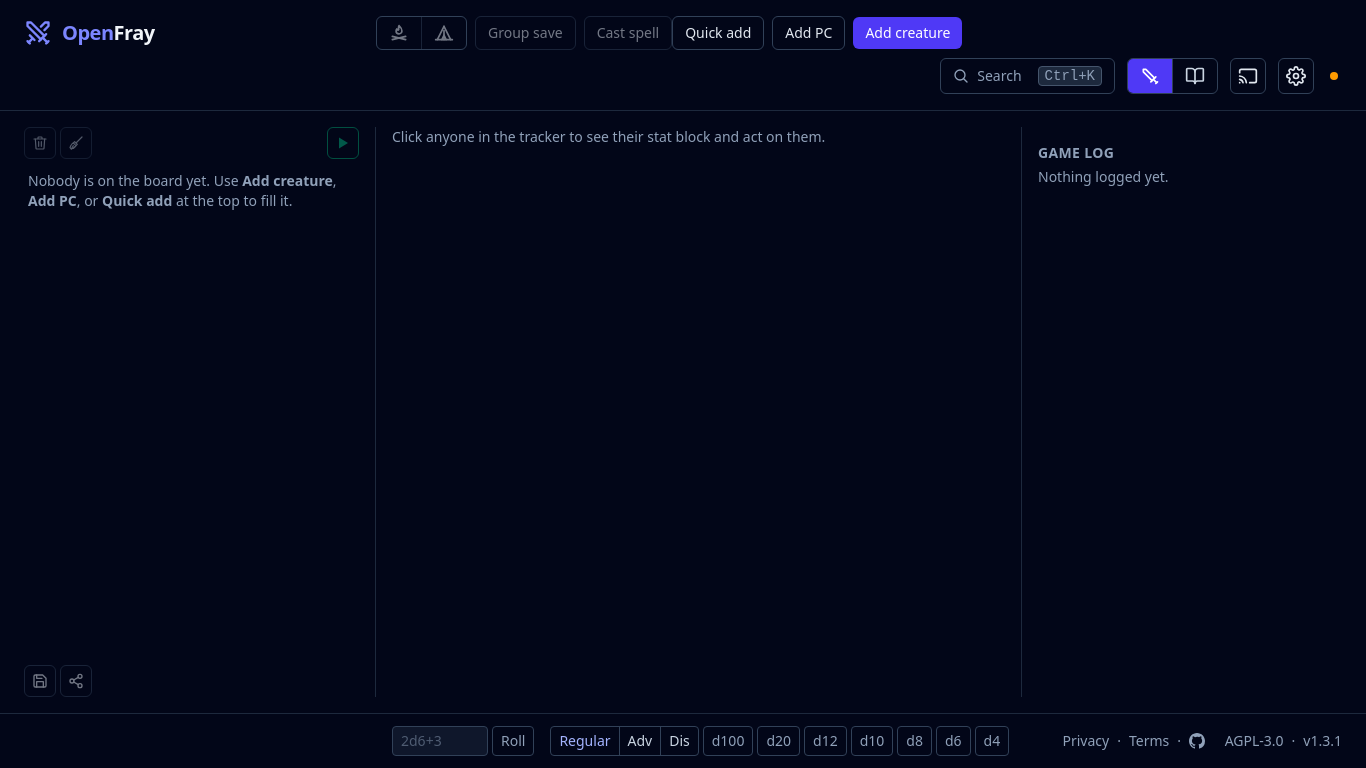
Test case: App — keyboard control › advances the turn on n once the fight is running
Click the button "Quick add".
click(718, 33)  # box [672,16,764,50]
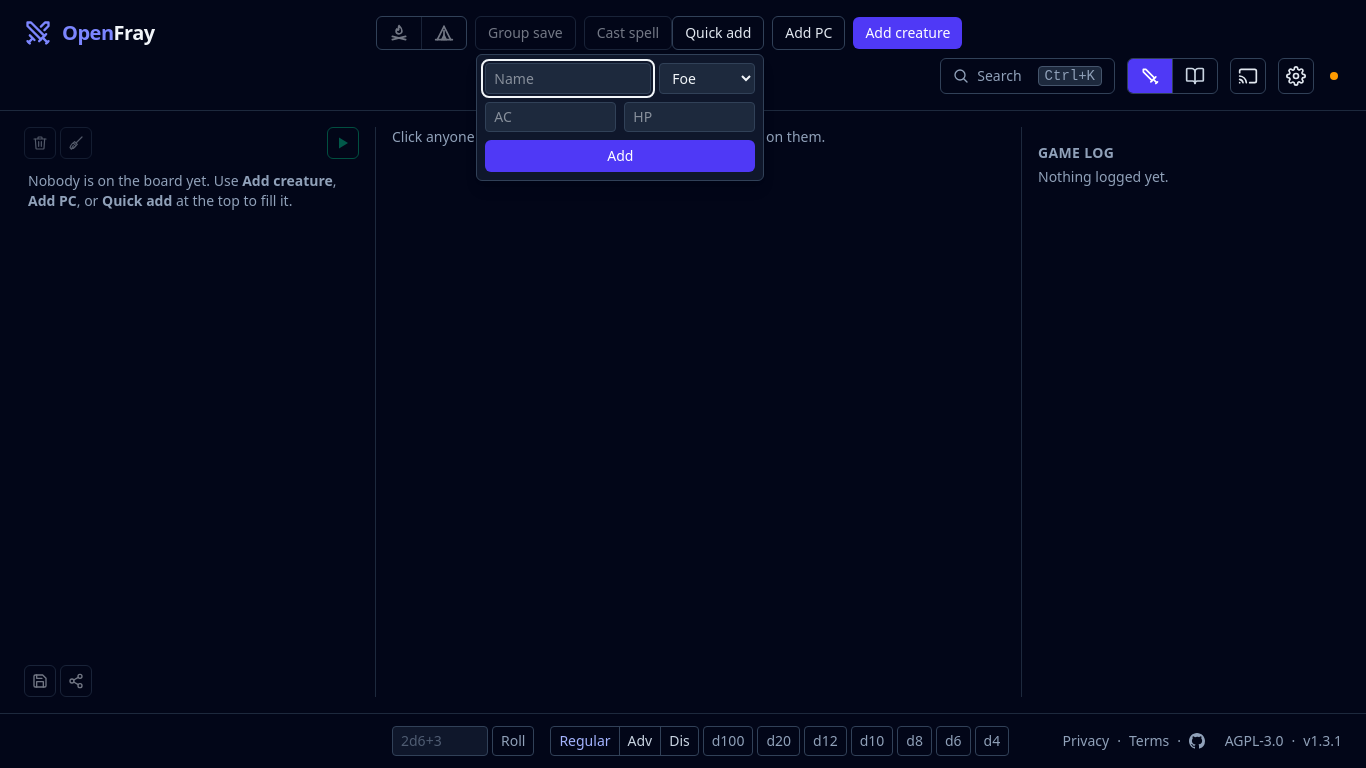
Type "Bandit" into the field named "Quick add name".
click(568, 78); type("Bandit")  # box [485,63,651,94]
Type "10" into the field named "Max HP".
click(690, 117); type("10")  # box [624,102,755,132]
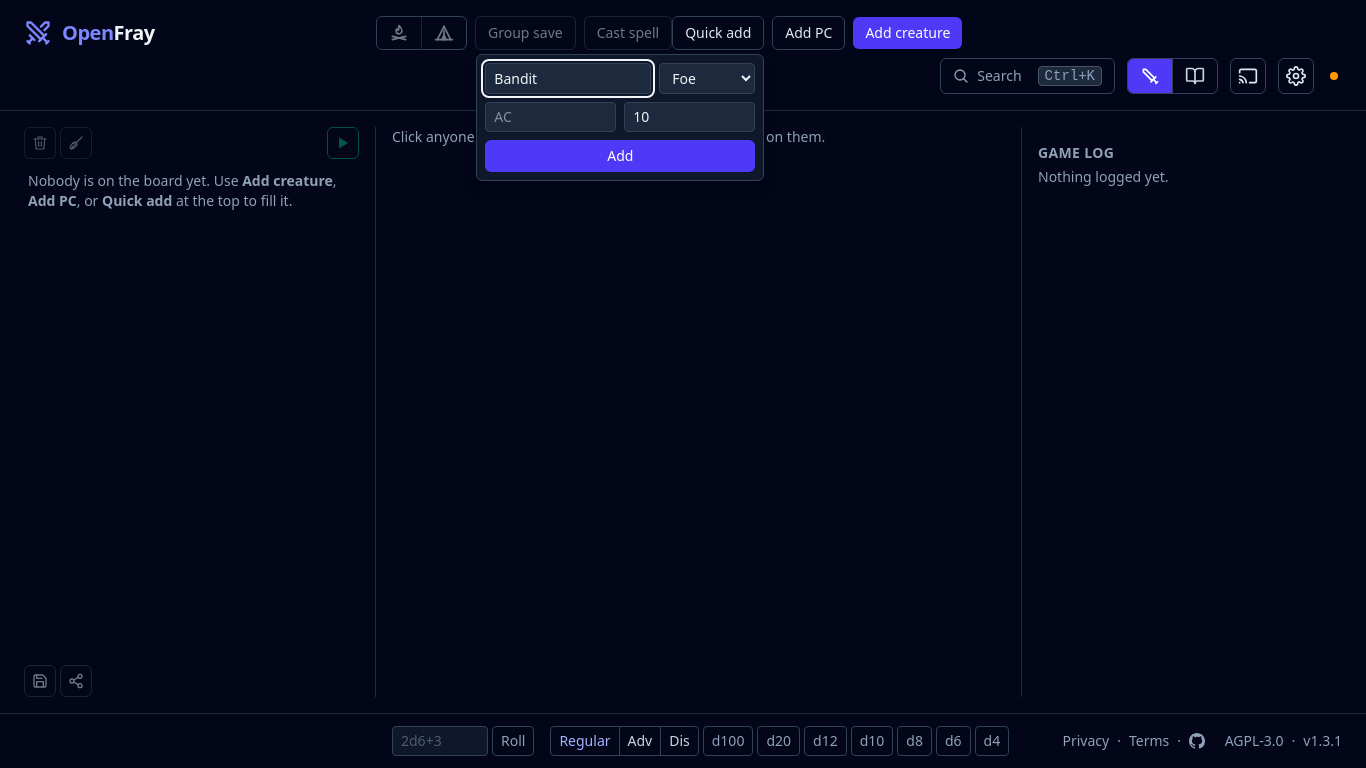
Click the button "Add".
click(620, 156)  # box [485,140,755,172]
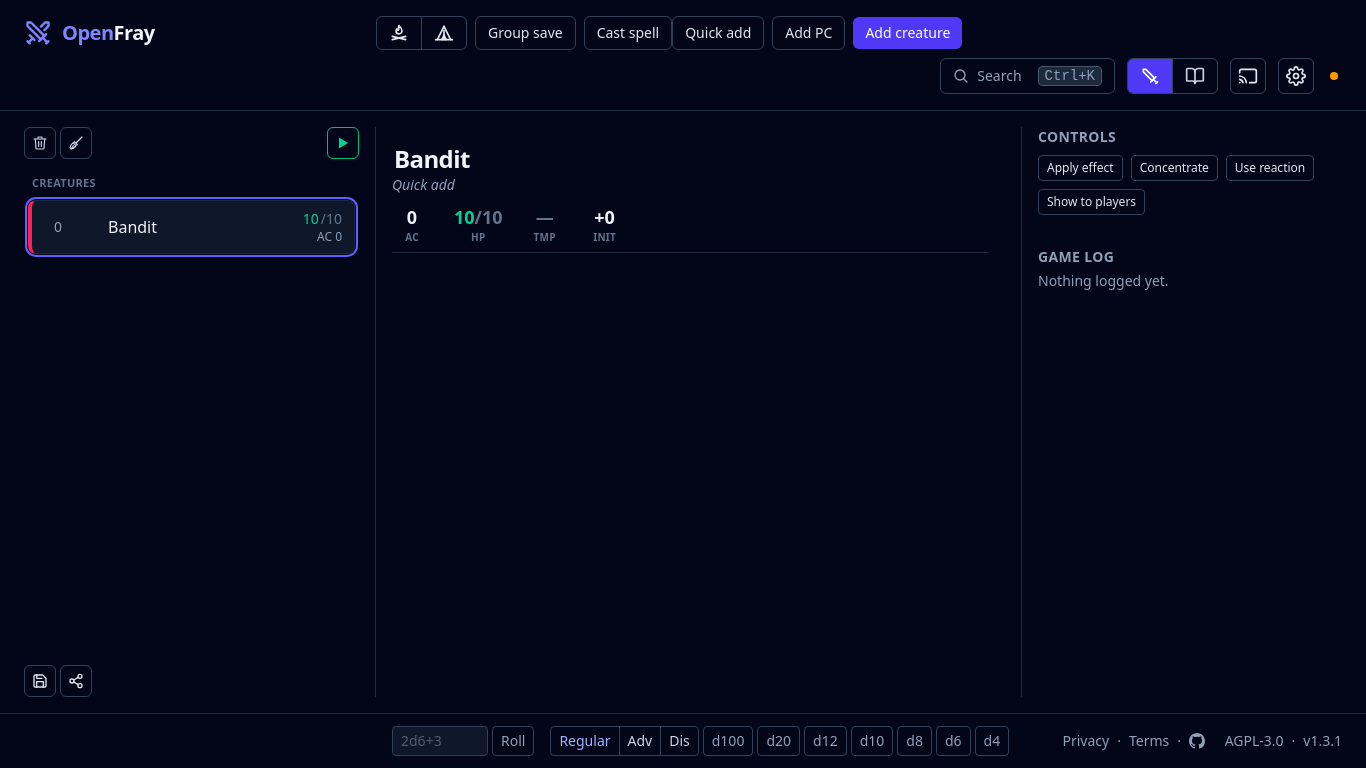
Click the button named "Begin".
click(343, 143)  # box [327,127,359,159]
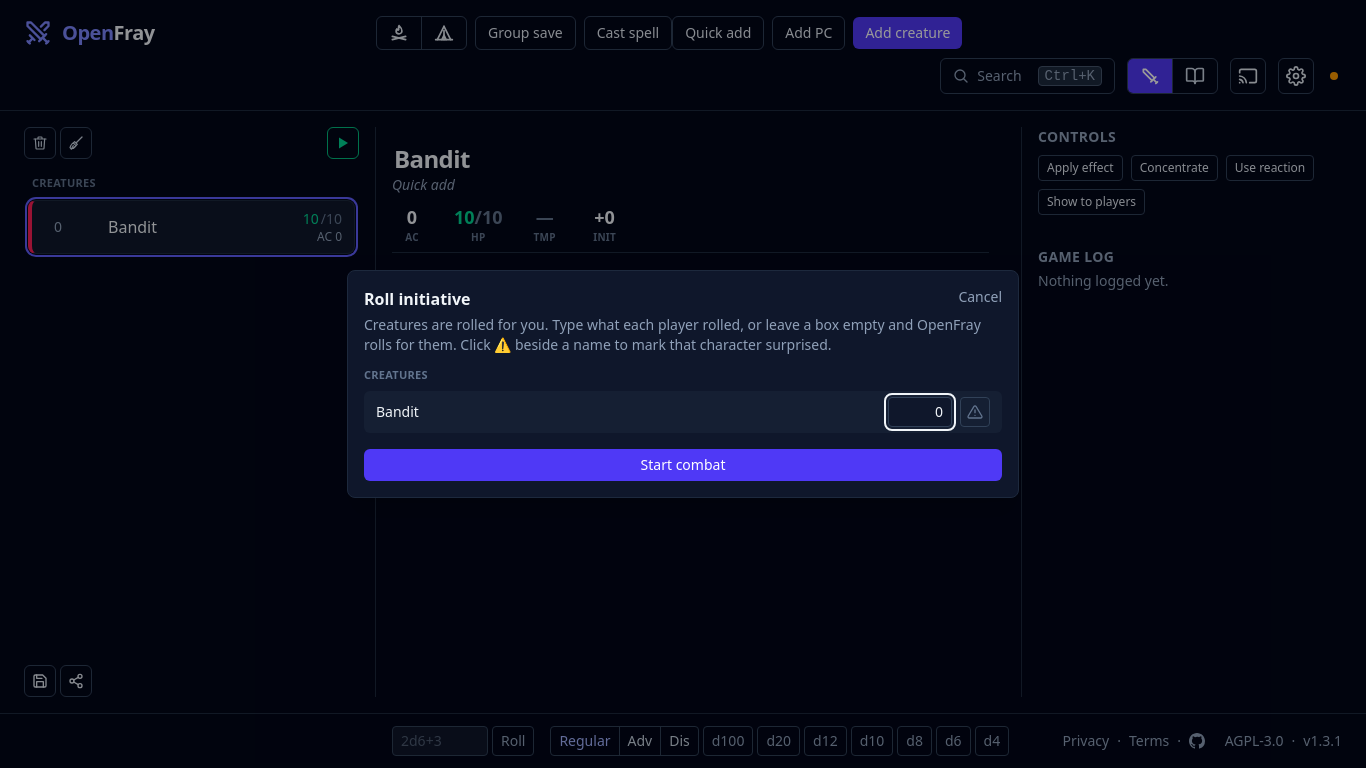
Click the button "Start combat".
click(683, 465)  # box [364,449,1002,481]
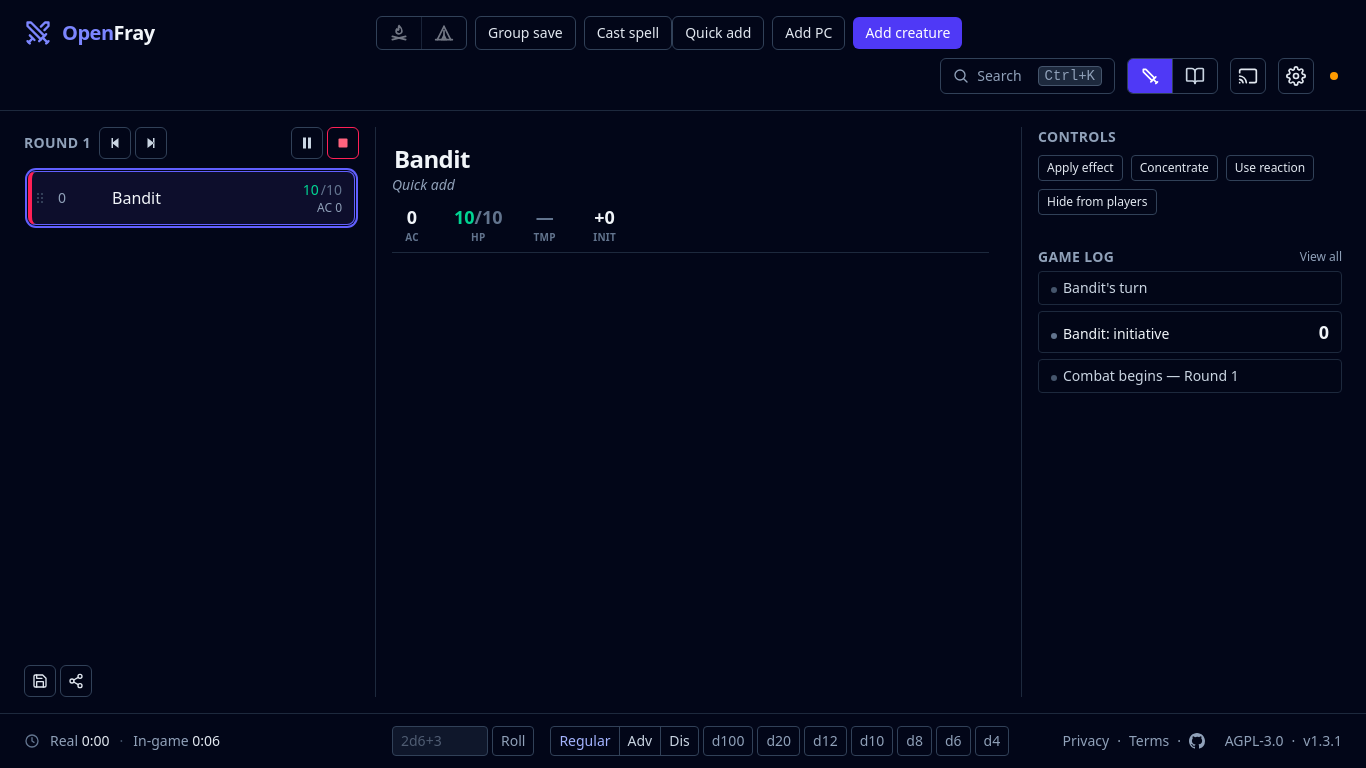
Result: the heading "Round 1" is shown at [24,133,91,153]
Press n
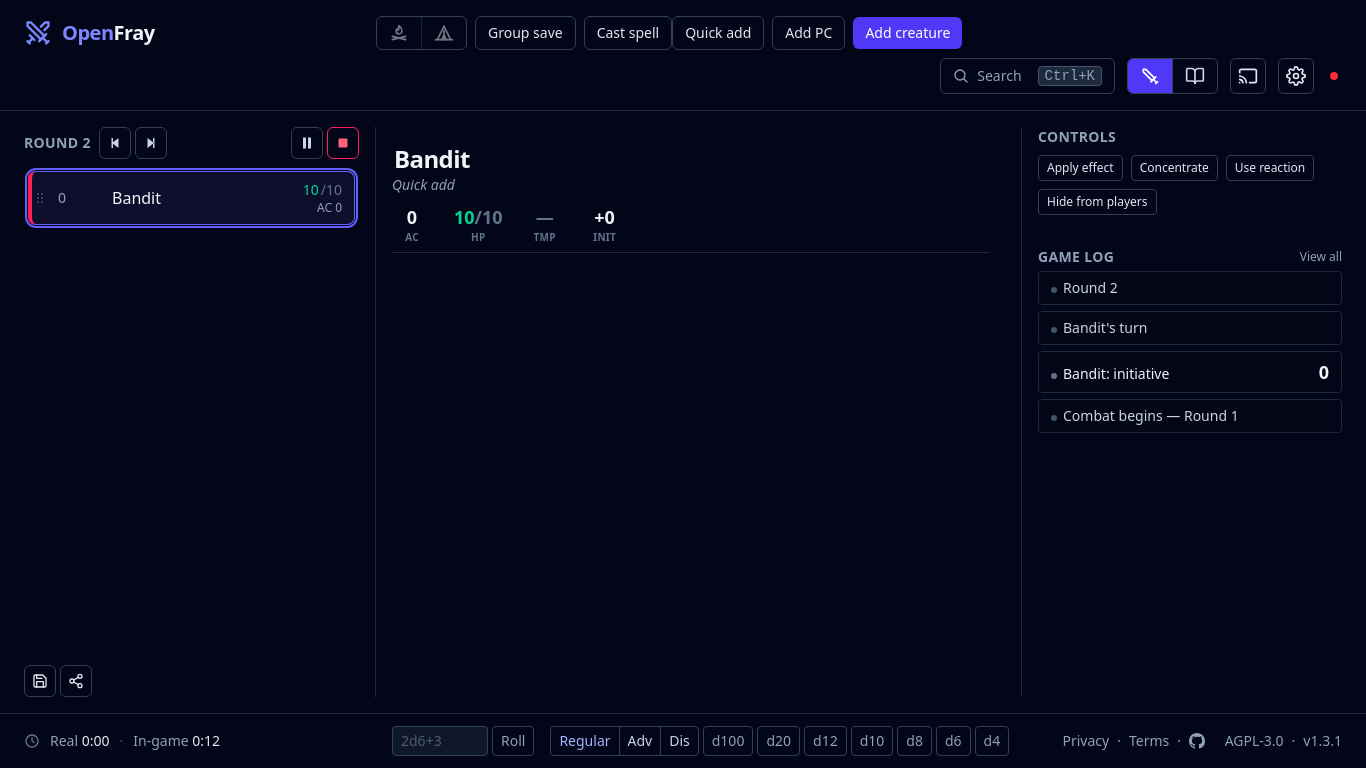
Result: the heading "Round 2" is shown at [24,133,91,153]
